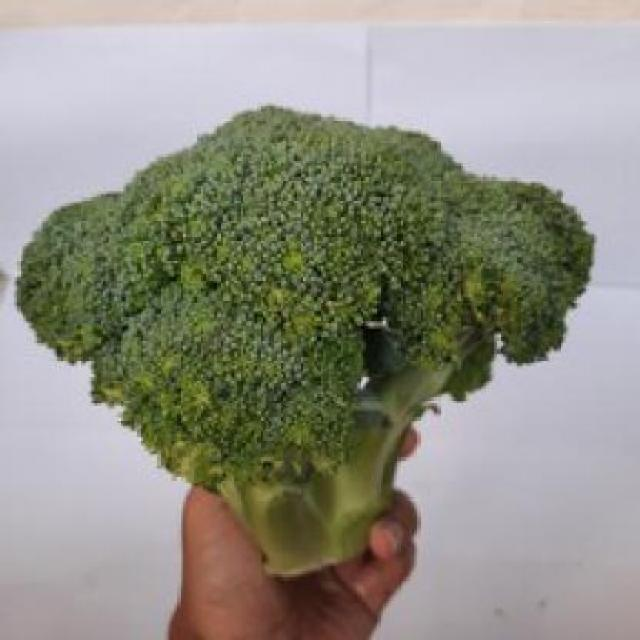broccoli: (29, 103, 598, 574)
